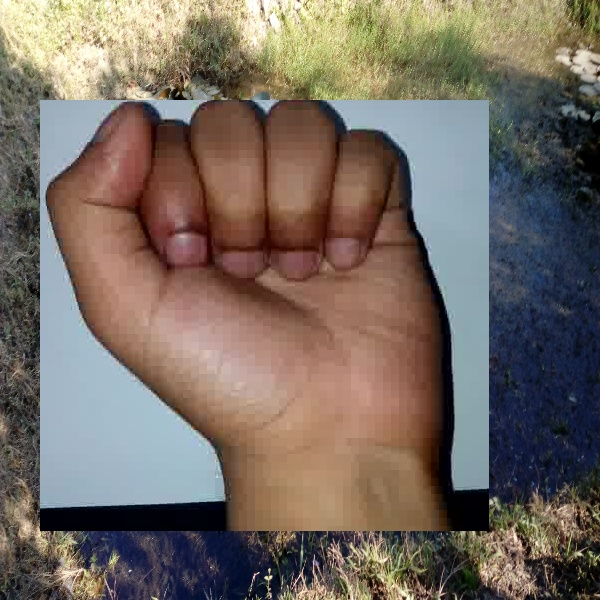A: (40, 100, 489, 531)
